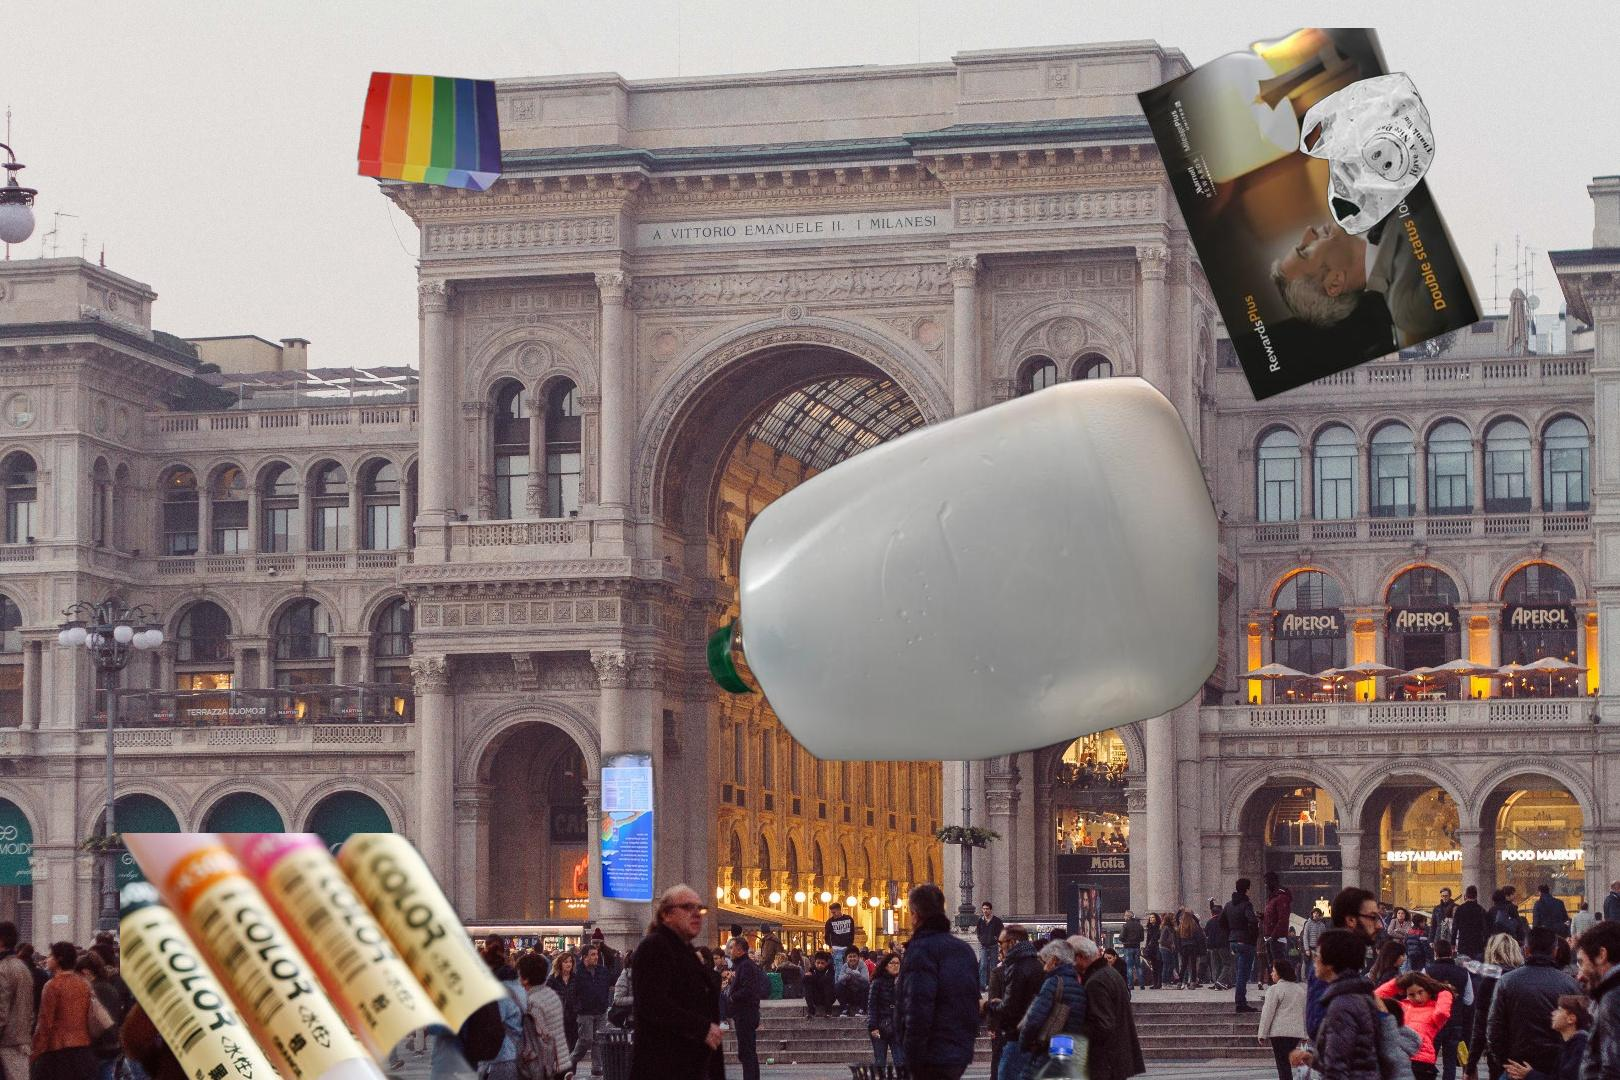paper: (1135, 28, 1489, 405)
paper-bag: (331, 7, 595, 193)
penholder: (121, 833, 583, 1080)
plastic-bag: (1296, 67, 1438, 236)
plastic-bottles: (706, 377, 1217, 761), (592, 744, 663, 947), (1009, 957, 1105, 1080)
